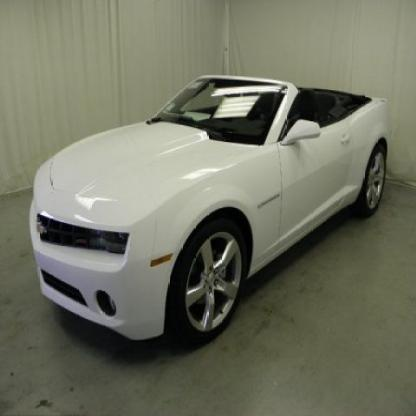Vehicle: (29, 75, 392, 350)
